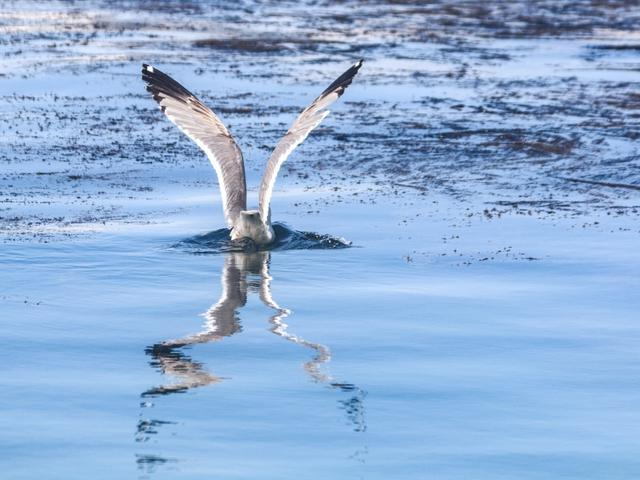bird: (120, 40, 386, 261)
